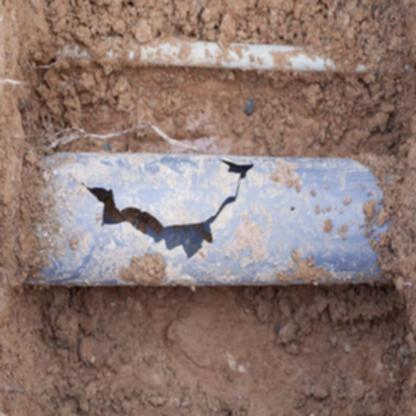burst: (79, 165, 271, 262)
